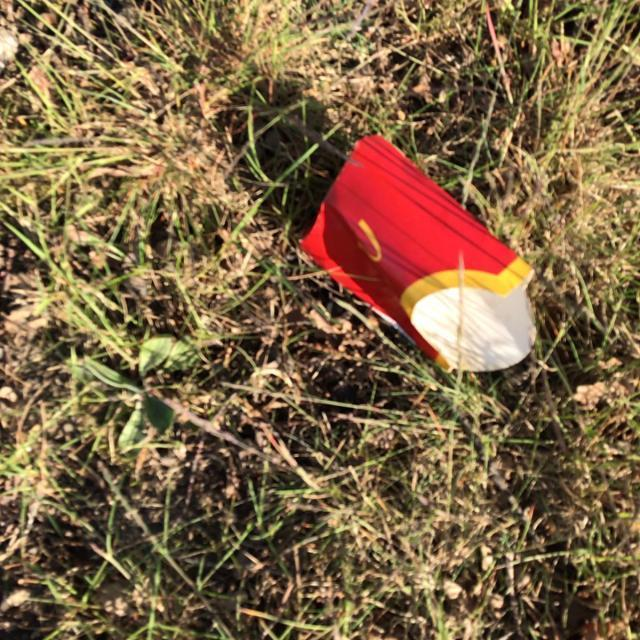Paper: (294, 131, 538, 376)
